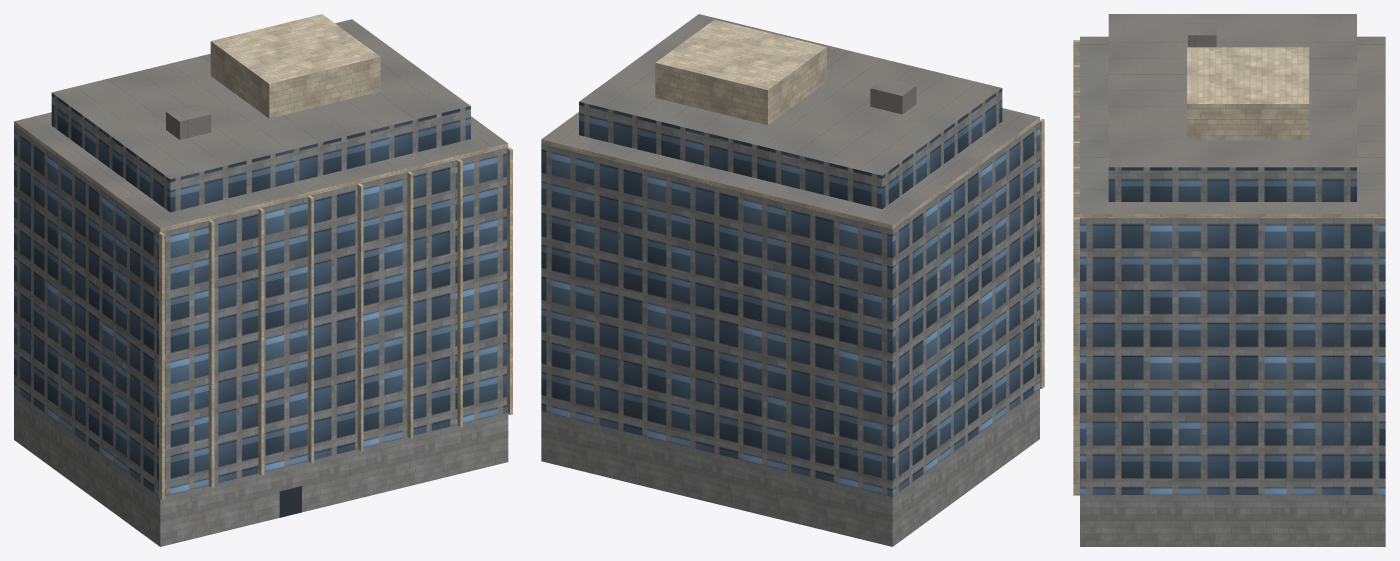
Rendered from dc_office_glass.glb.
3 views of the same model, side by side, from view 1: azimuth 30°, elevation 25°; view 2: azimuth 150°, elevation 25°; view 3: azimuth 270°, elevation 25° (orthographic). The views are drawn at different scales.
Parts seen in each view (by area): view 1: dc_office_glass; view 2: dc_office_glass; view 3: dc_office_glass.
Boxes of the visible parts, x1,y1,x2,y2 form: dc_office_glass: (14,14,512,546); dc_office_glass: (541,14,1044,546); dc_office_glass: (1073,14,1385,546).
Size of the model in its own units: 44.35 by 46.7 by 32.7.
Materials: 5 (5 with a texture image).
